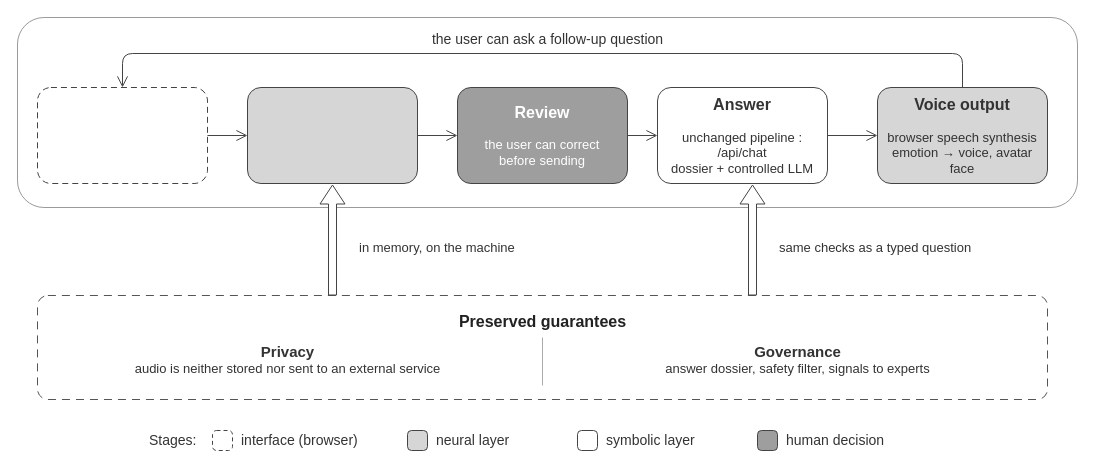
Image size: 1095x469. Some labels were removed from this diagram. Here are the shapes that lost their labels. From the top down, the centre of each, then its label:
At pixel 122 135: "Recording browser microphone webm/opus audio".
At pixel 332 135: "Transcription local Whisper (faster-whisper)".
